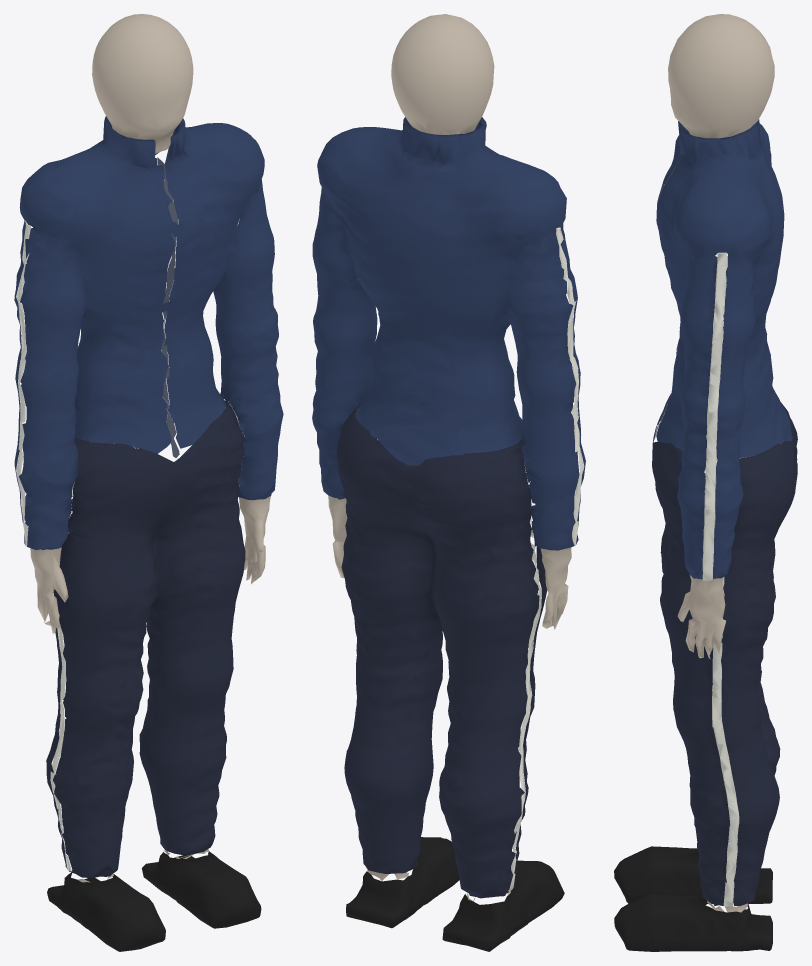
File: person.glb
3 renders of one model, left to right at view 1: azimuth 30°, elevation 25°; view 2: azimuth 150°, elevation 25°; view 3: azimuth 270°, elevation 25°, orthographic.
Parts seen in each view (by area): view 1: dressed_person_jacket, dressed_person_trousers, dressed_person_skin, dressed_person_shoes, dressed_person_trim, dressed_person_zip; view 2: dressed_person_jacket, dressed_person_trousers, dressed_person_skin, dressed_person_shoes, dressed_person_trim; view 3: dressed_person_jacket, dressed_person_trousers, dressed_person_skin, dressed_person_shoes, dressed_person_trim.
Boxes of the visible parts, x1,y1,x2,y2 form: dressed_person_jacket: (14, 116, 283, 549); dressed_person_trousers: (46, 394, 245, 877); dressed_person_skin: (30, 14, 270, 882); dressed_person_shoes: (47, 850, 261, 951); dressed_person_trim: (16, 221, 280, 871); dressed_person_zip: (157, 157, 179, 457); dressed_person_jacket: (312, 117, 585, 550); dressed_person_trousers: (336, 402, 547, 898); dressed_person_skin: (328, 14, 571, 901); dressed_person_shoes: (346, 837, 564, 951); dressed_person_trim: (315, 227, 583, 892); dressed_person_jacket: (656, 119, 792, 579); dressed_person_trousers: (652, 402, 797, 905); dressed_person_skin: (668, 14, 774, 912); dressed_person_shoes: (614, 846, 772, 951); dressed_person_trim: (702, 252, 739, 906).
Bounding box in the file's own units: 0.5767 × 1.86 × 0.3441.
